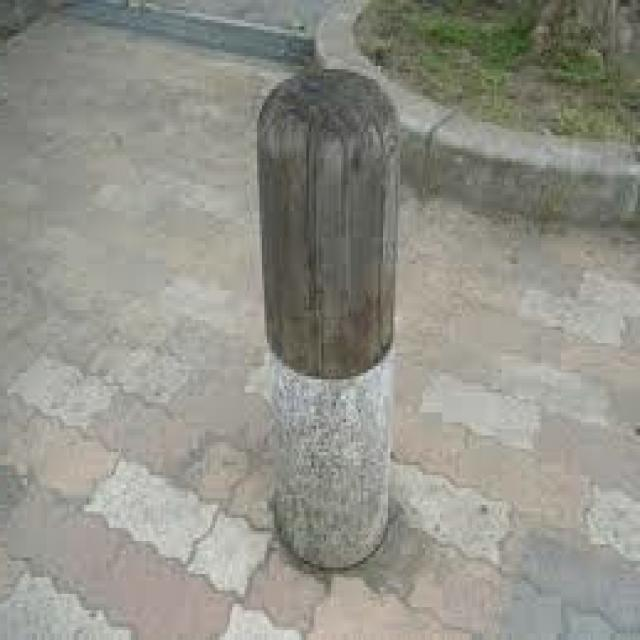bollard: (254, 40, 407, 579)
